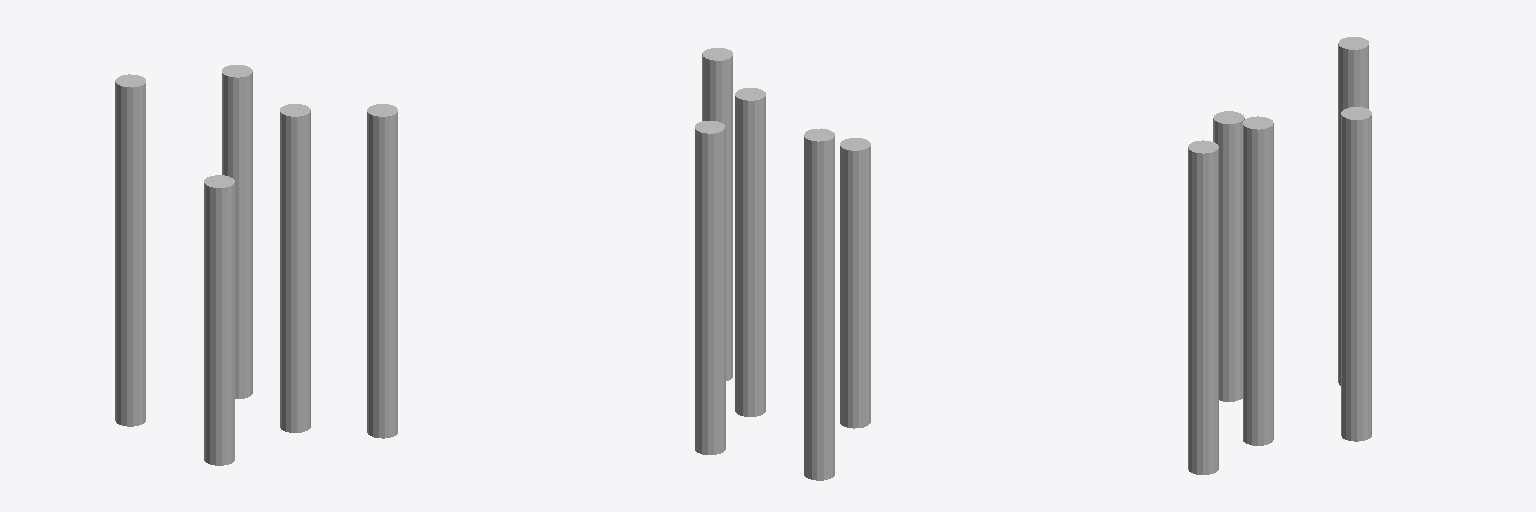
Rendered from grass2.obj.
3 views of the same model, side by side, from view 1: azimuth 30°, elevation 25°; view 2: azimuth 150°, elevation 25°; view 3: azimuth 270°, elevation 25° (orthographic).
Bounding box in the file's own units: 0.211 × 0.3356 × 0.1653.